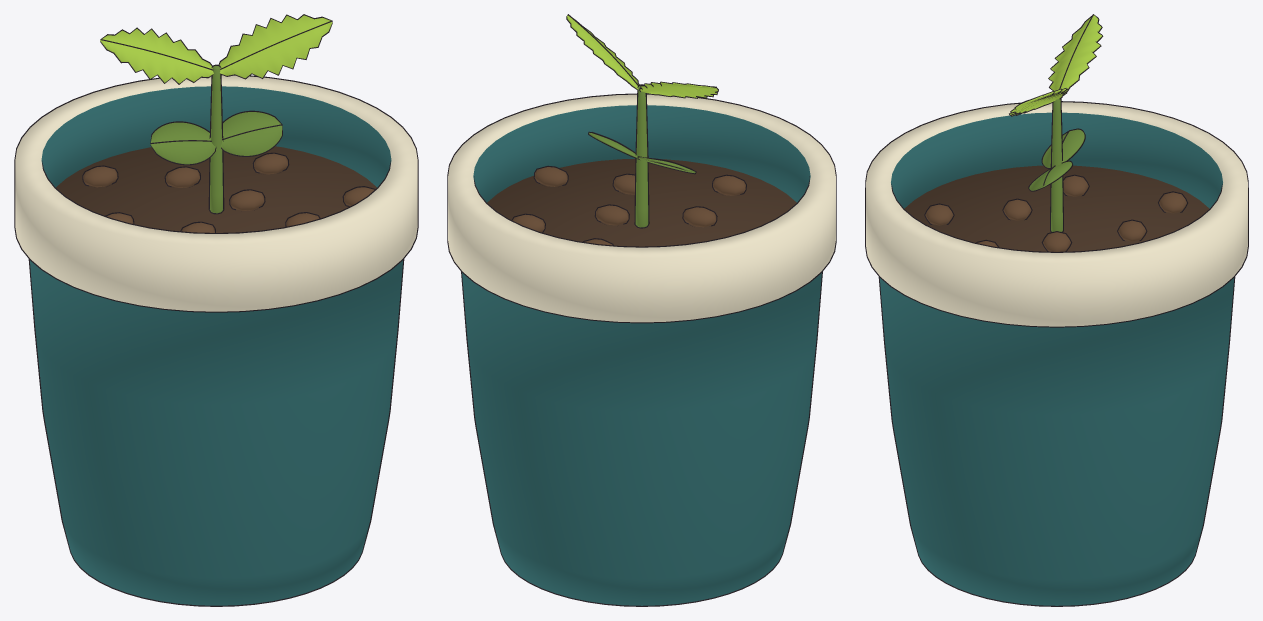
Rendered from cannabis_elancee_seedling_toon.glb.
3 renders of one model, left to right at view 1: azimuth 30°, elevation 25°; view 2: azimuth 150°, elevation 25°; view 3: azimuth 270°, elevation 25°, orthographic. The views are drawn at different scales.
Visible parts, largest first — view 1: cannabis_elancee_seedling_Geometry; view 2: cannabis_elancee_seedling_Geometry; view 3: cannabis_elancee_seedling_Geometry.
Boxes of the visible parts, x1,y1,x2,y2 form: cannabis_elancee_seedling_Geometry: (14,14,418,606); cannabis_elancee_seedling_Geometry: (447,14,836,606); cannabis_elancee_seedling_Geometry: (865,14,1248,606).
Size of the model in its own units: 0.2713 by 0.3824 by 0.2713.
